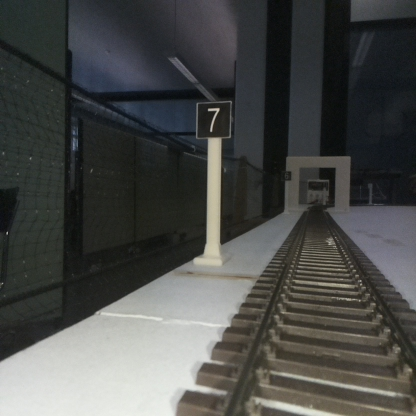black-info-6: (282, 170, 291, 214)
black-info-7: (197, 103, 230, 265)
